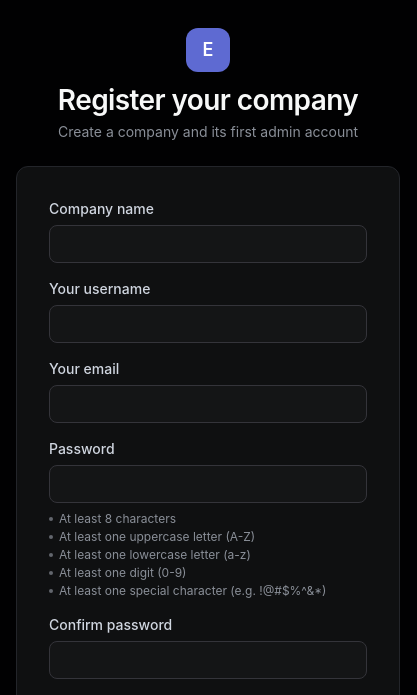
Test: CompanyRegisterPage › shows a pending-approval confirmation when approval is required
The width and height of the screenshot is (417, 695).
In the field labelled "Company name": (208, 244) [49,225,367,263], type "New Co"
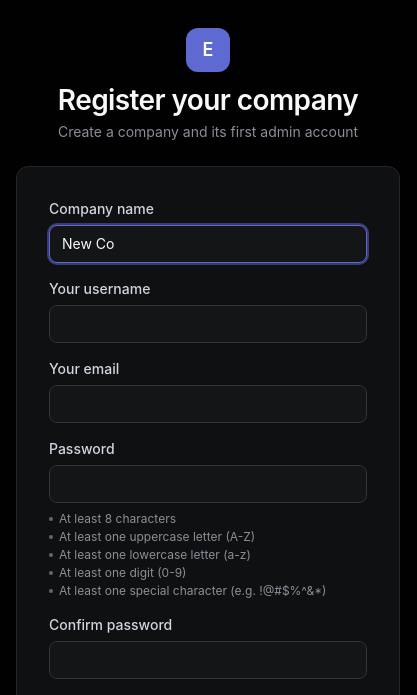
In the field labelled "Your username": (208, 324) [49,305,367,343], type "pending.admin"
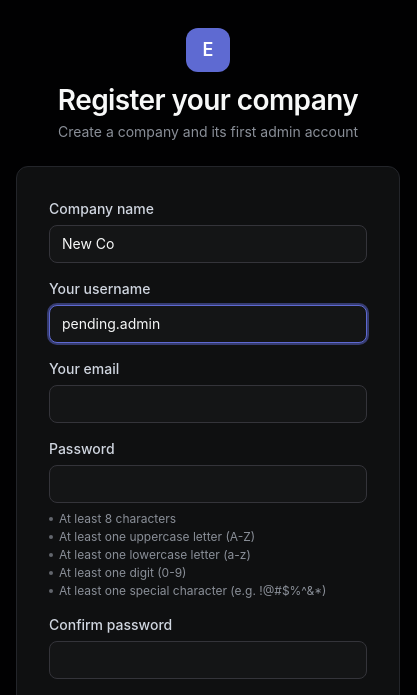
In the field labelled "Your email": (208, 404) [49,385,367,423], type "pending-admin@newco.example.com"
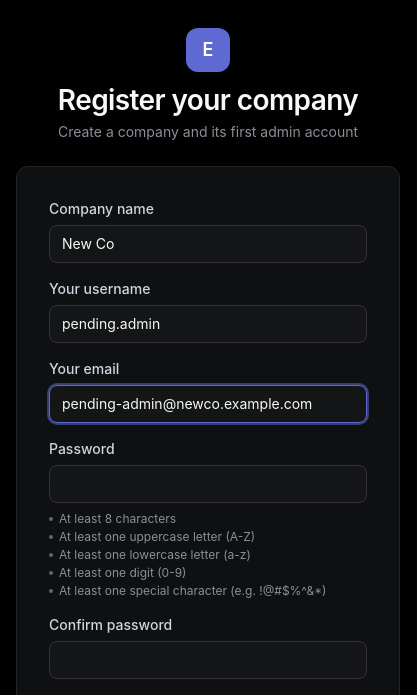
In the password field labelled "Password": (208, 484) [49,465,367,503], type "Password@123"
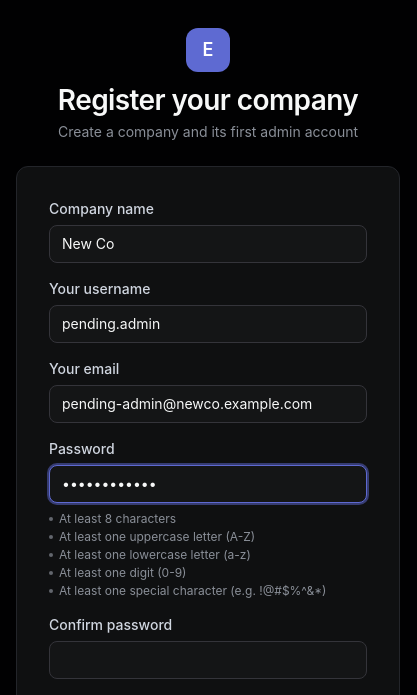
In the password field labelled "Confirm password": (208, 660) [49,641,367,679], type "Password@123"
(page scrolled)
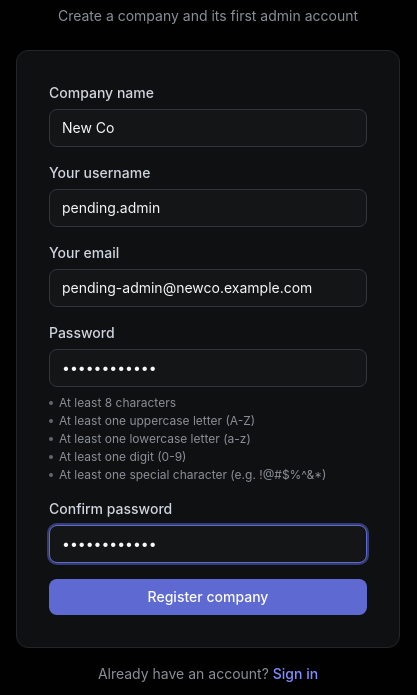
Click the button "Register company": (208, 597) [49,579,367,615]
(page scrolled)
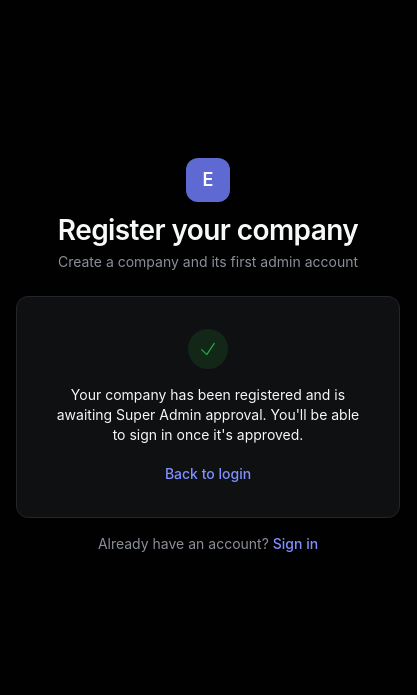
Result: the text "awaiting Super Admin approval" is shown at [57,386,359,443]
